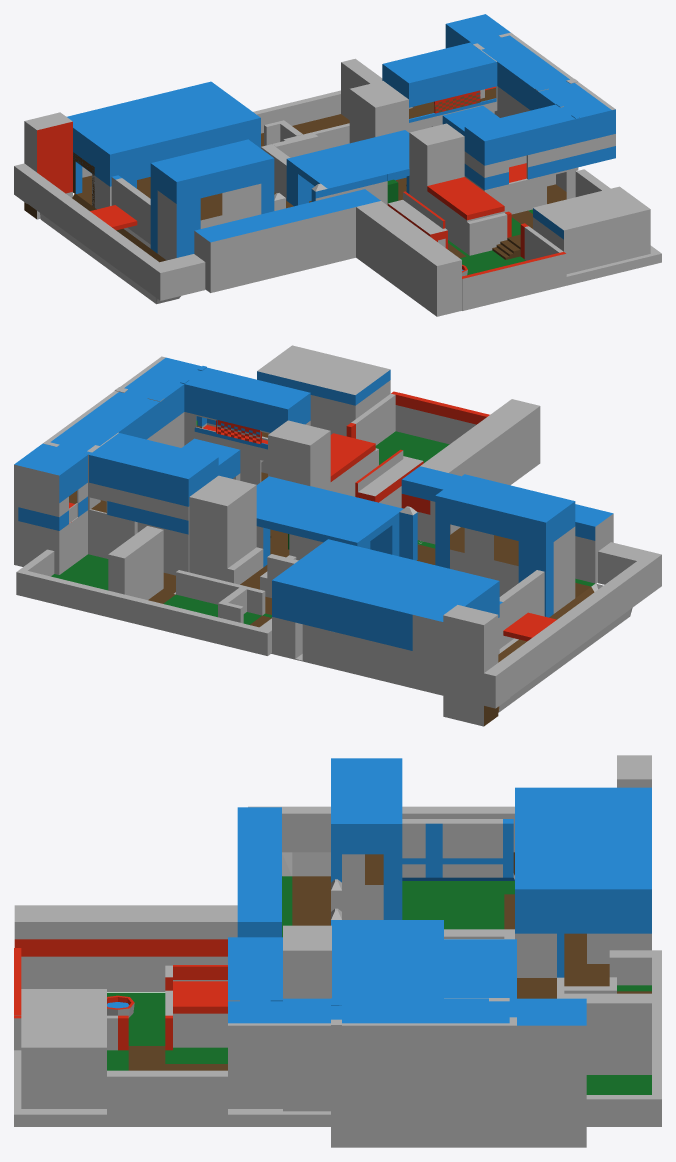
File: fps_map_warface_big_castle_pvp_pve.glb
3 renders of one model, top to bottom at view 1: azimuth 30°, elevation 25°; view 2: azimuth 150°, elevation 25°; view 3: azimuth 270°, elevation 25°, orthographic. The views are drawn at different scales.
Visible parts, largest first — view 1: Plane_0; view 2: Plane_0; view 3: Plane_0.
Part boxes in pixels (x1,y1,x2,y2): Plane_0: (14, 14, 661, 316); Plane_0: (14, 345, 661, 726); Plane_0: (14, 755, 661, 1147).
Bounding box in the file's own units: 101 × 23.15 × 91.76.
